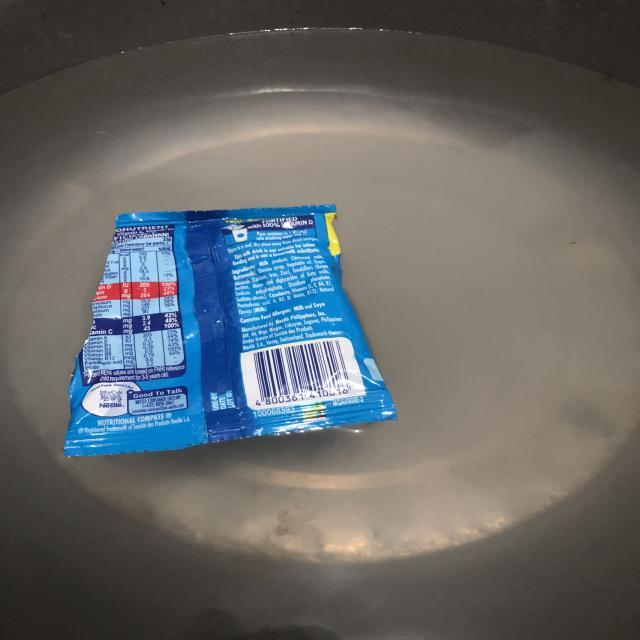Plastic Wrapper: (42, 185, 413, 486)
